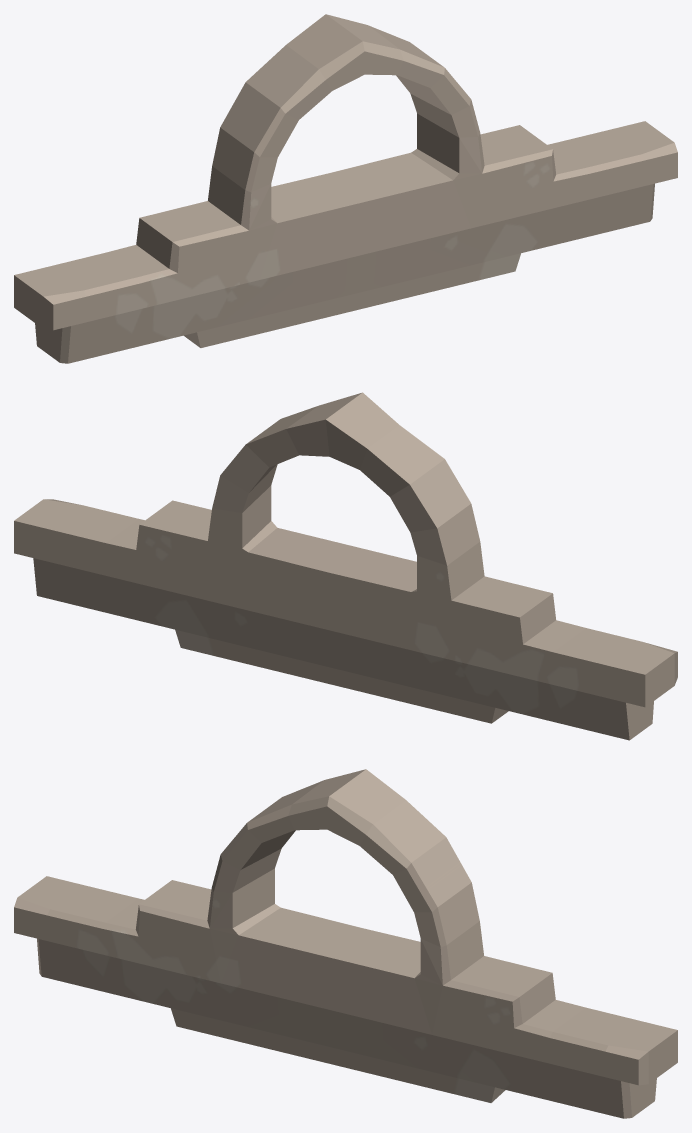
Rendered from SM_Bld_Village_Edge_01.glb.
The picture shows the model from 3 angles, top to bottom: view 1: azimuth 30°, elevation 25°; view 2: azimuth 150°, elevation 25°; view 3: azimuth 330°, elevation 25°; orthographic projection.
Visible parts, largest first — view 1: SM_Bld_Village_Edge_01; view 2: SM_Bld_Village_Edge_01; view 3: SM_Bld_Village_Edge_01.
Boxes of the visible parts, x1,y1,x2,y2 form: SM_Bld_Village_Edge_01: (14, 14, 677, 363); SM_Bld_Village_Edge_01: (14, 392, 677, 740); SM_Bld_Village_Edge_01: (14, 769, 677, 1118).
Size of the model in its own units: 4.87 by 2 by 0.5329.
Materials: 1 (1 with a texture image).
